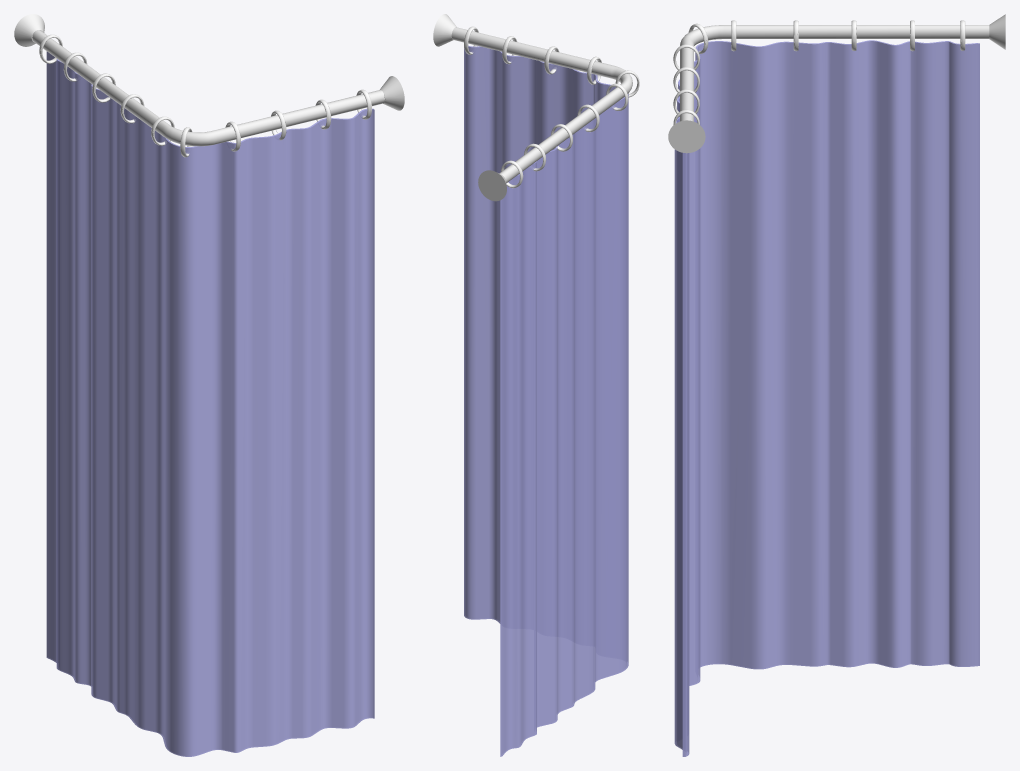
The picture shows the model from 3 angles, left to right: view 1: azimuth 30°, elevation 25°; view 2: azimuth 150°, elevation 25°; view 3: azimuth 270°, elevation 25°; orthographic projection. The views are drawn at different scales.
Parts seen in each view (by area): view 1: Object_3, Object_4, Object_2; view 2: Object_3, Object_4, Object_2; view 3: Object_3, Object_4, Object_2.
Boxes of the visible parts, x1=… form: Object_3: x1=46, y1=51, x2=374, y2=756; Object_4: x1=14, y1=14, x2=404, y2=146; Object_2: x1=39, y1=34, x2=371, y2=157; Object_3: x1=464, y1=45, x2=628, y2=756; Object_4: x1=433, y1=14, x2=632, y2=201; Object_2: x1=464, y1=26, x2=639, y2=188; Object_3: x1=674, y1=40, x2=979, y2=756; Object_4: x1=668, y1=14, x2=1005, y2=153; Object_2: x1=673, y1=20, x2=965, y2=124.
Bounding box in the file's own units: 73.59 × 198 × 93.39.
